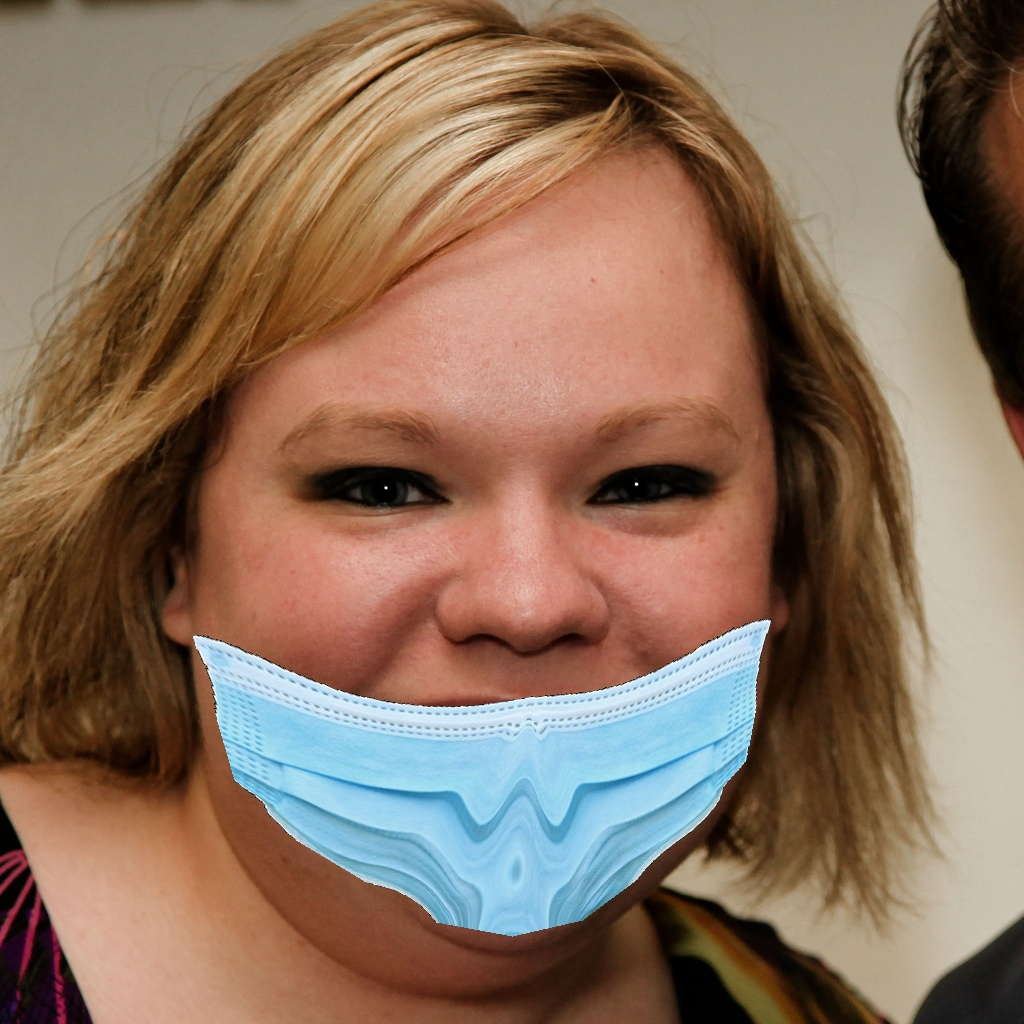mask_weared_incorrect: (167, 378, 796, 954)
